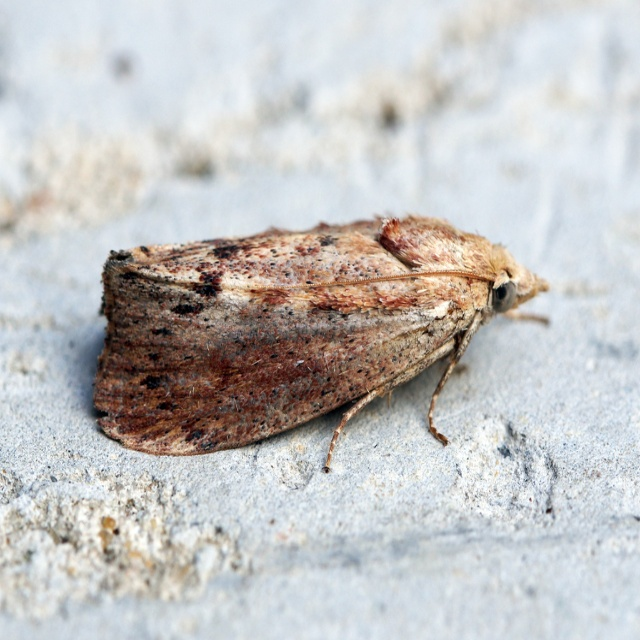Moths and butterflies: (89, 206, 553, 472)
